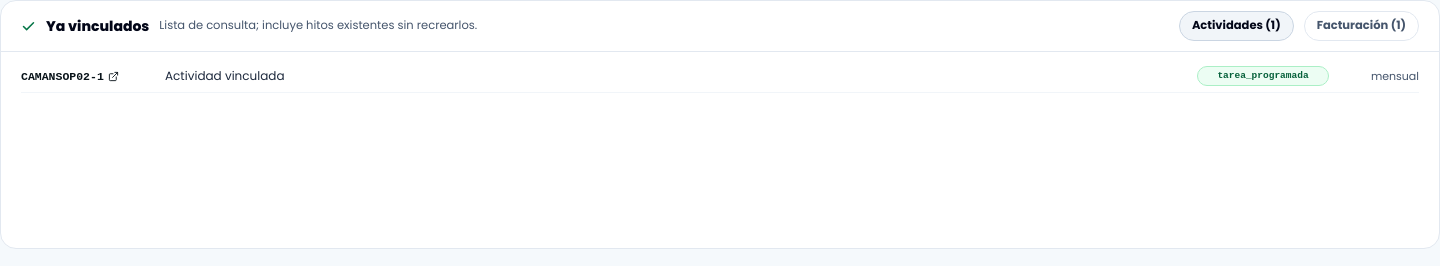
it: JsmLinkedItems › conserva enlaces Jira y permite alternar entre actividades y facturación
The width and height of the screenshot is (1440, 266).
Check: the text "Actividad vinculada" is shown, box [165,67,284,84]
Click the button "Facturación (1)" at point(1361, 26), box [1304,11,1419,41]
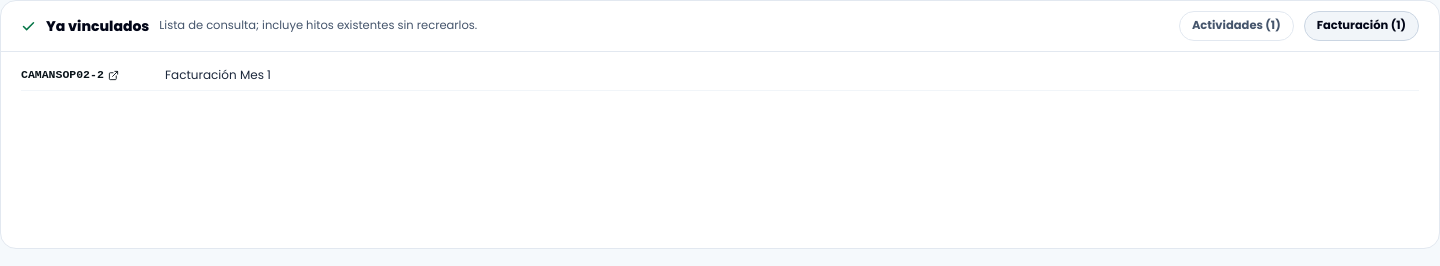
Check: the text "Facturación Mes 1" is shown, box [165,66,271,83]
